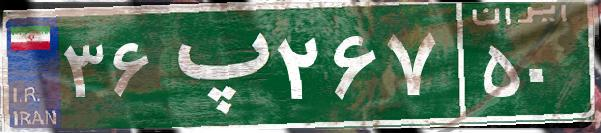0: (525, 38, 570, 115)
2: (273, 28, 330, 110)
3: (57, 26, 110, 107)
5: (475, 38, 525, 113)
6: (330, 28, 385, 110), (110, 28, 158, 105)
7: (385, 28, 445, 110)
پ: (158, 15, 273, 115)
